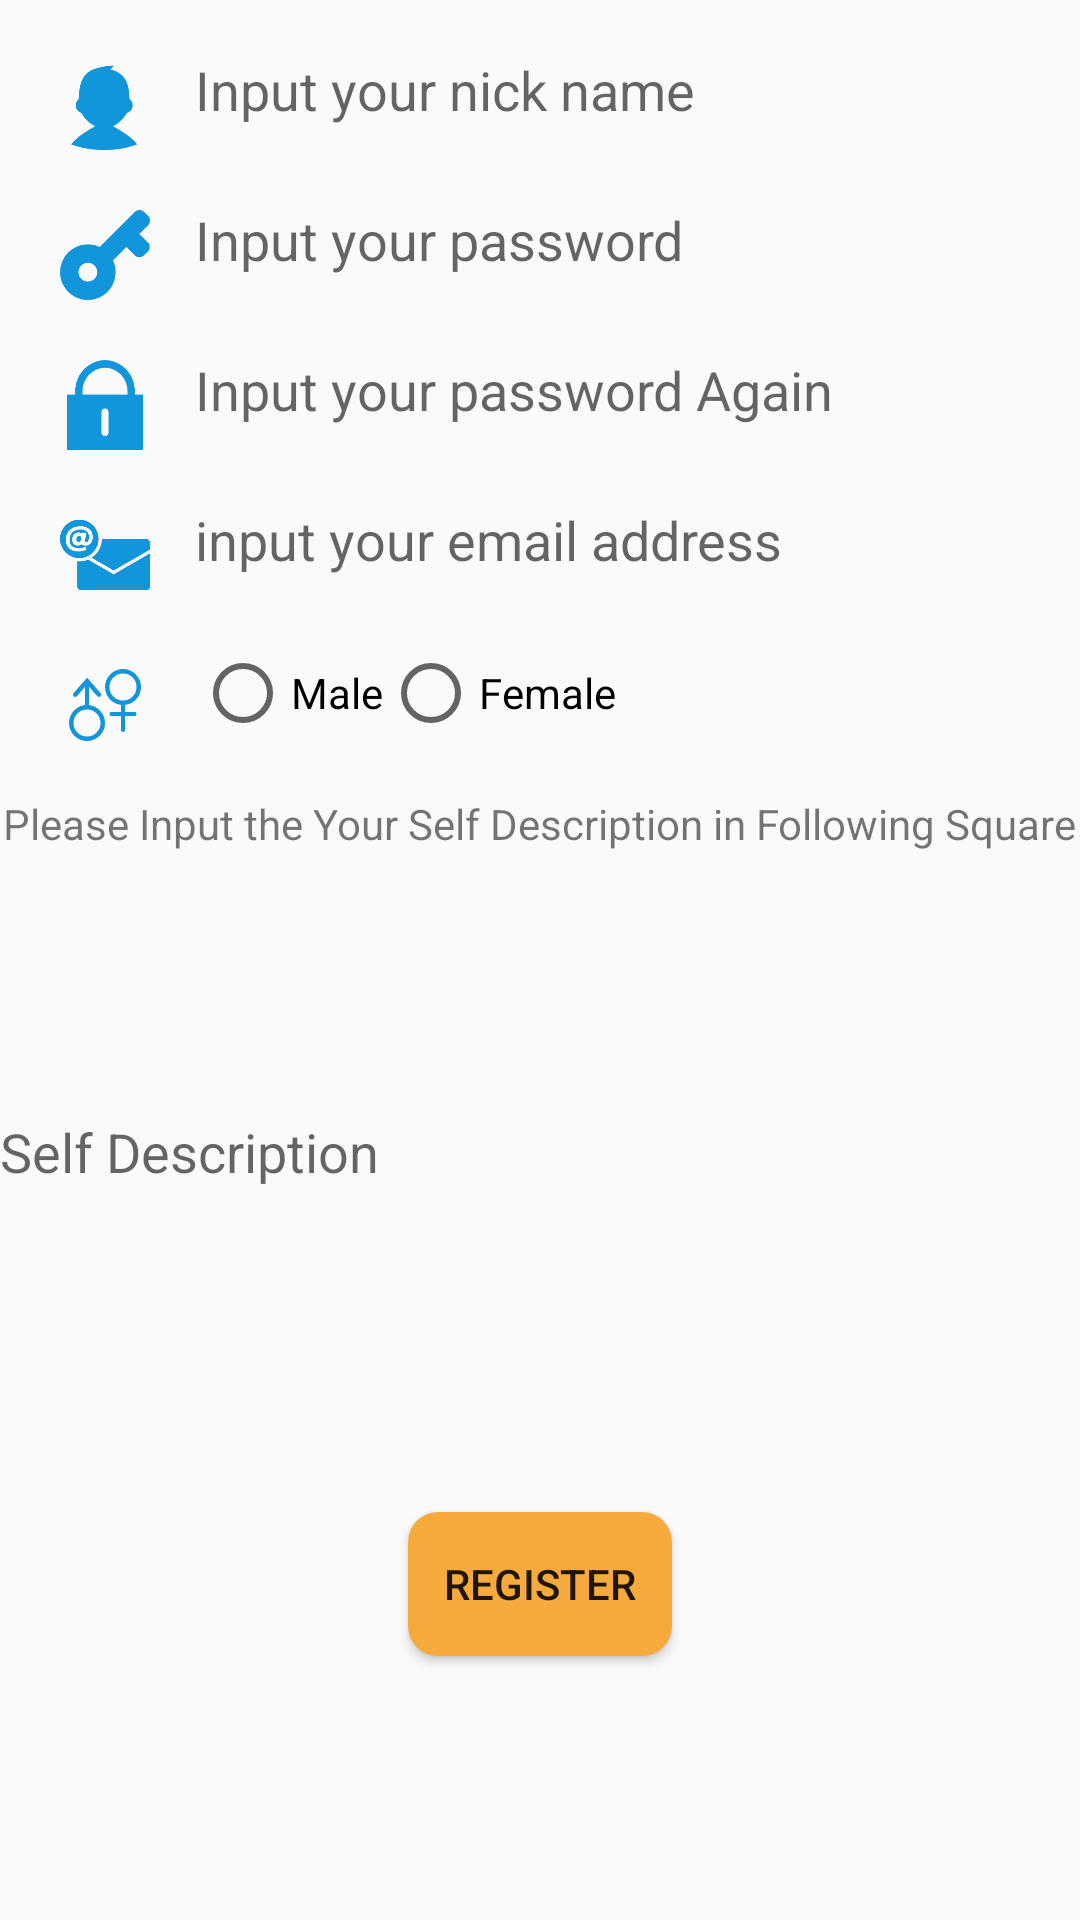

Icon bounding boxes for this 1080px x 1920px phone screenshot, format [x1, y1, x2, y2]:
gender: [69, 669, 141, 741]
password ensure: [67, 360, 143, 450]
